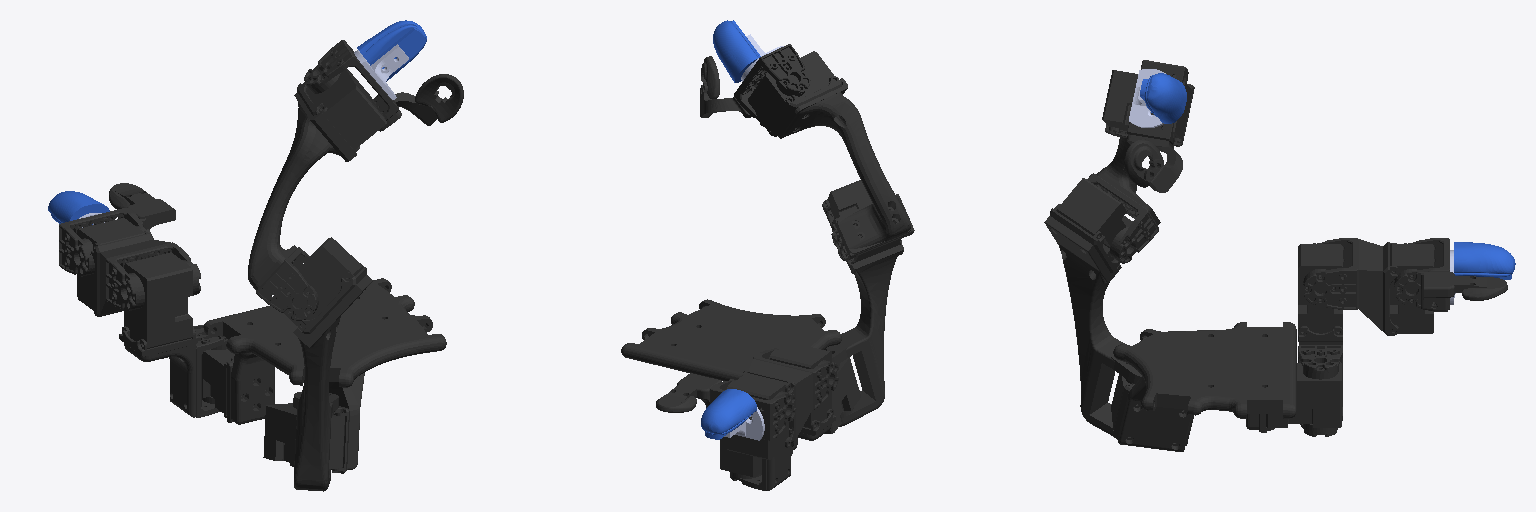
URDF robot description (ditto_left_leader_spikeatac):
<?xml version='1.0' encoding='utf-8'?>
<robot name="ditto_left_leader_spikeatac">
  <link name="base_link">
    <inertial>
      <origin xyz="0.0152144378077 -0.0458257694108 0.0115452538109" rpy="0 -0 0" />
      <mass value="0.0833211952650805" />
      <inertia ixx="3.31172694214e-05" ixy="-7.28985620728e-07" ixz="-4.10611672089e-06" iyy="3.13694915846e-05" iyz="-3.04082055921e-06" izz="4.76920282566e-05" />
    </inertial>
    <visual>
      <origin xyz="0 0 0" rpy="0 -0 0" />
      <geometry>
        <mesh filename="meshes/base_link.STL" />
      </geometry>
      <material name="">
        <color rgba="0.250980392156863 0.250980392156863 0.250980392156863 1" />
      </material>
    </visual>
    <collision>
      <origin xyz="0 0 0" rpy="0 -0 0" />
      <geometry>
        <mesh filename="meshes/base_link.STL" />
      </geometry>
    </collision>
  </link>
  <link name="retarget_base">
    <inertial>
      <origin xyz="0 0 0" rpy="0 -0 0" />
      <mass value="1.0E-06" />
      <inertia ixx="1e-12" ixy="0" ixz="0" iyy="1e-12" iyz="0" izz="1e-12" />
    </inertial>
  </link>
  <joint name="retarget_base_joint" type="fixed">
    <origin xyz="0 0 0.046" rpy="0 -0 0" />
    <parent link="base_link" />
    <child link="retarget_base" />
  </joint>
  <link name="index_link_0">
    <inertial>
      <origin xyz="-0.0271735386977 3.02693906263e-09 0.029005723879" rpy="0 -0 0" />
      <mass value="0.0234290807402588" />
      <inertia ixx="3.11468553842e-06" ixy="1.63639517847e-13" ixz="2.15068798817e-07" iyy="3.56962661403e-06" iyz="-2.93292358216e-13" izz="1.91839577956e-06" />
    </inertial>
    <visual>
      <origin xyz="0 0 0" rpy="0 -0 0" />
      <geometry>
        <mesh filename="meshes/index_link_0.STL" />
      </geometry>
      <material name="">
        <color rgba="0.250980392156863 0.250980392156863 0.250980392156863 1" />
      </material>
    </visual>
    <collision>
      <origin xyz="0 0 0" rpy="0 -0 0" />
      <geometry>
        <mesh filename="meshes/index_link_0.STL" />
      </geometry>
    </collision>
  </link>
  <joint name="index_joint_0" type="revolute">
    <origin xyz="0 0 0" rpy="0 -0 0" />
    <parent link="base_link" />
    <child link="index_link_0" />
    <axis xyz="0 0 -1" />
    <limit lower="-0.3" upper="0.8" effort="0" velocity="0" />
  </joint>
  <link name="index_link_1">
    <inertial>
      <origin xyz="-0.0324867258156 -0.00549943022495 0.000209333565141" rpy="0 -0 0" />
      <mass value="0.0277581841607585" />
      <inertia ixx="4.11454234313e-06" ixy="-4.9684016149e-08" ixz="-1.58829402885e-13" iyy="2.57034877333e-06" iyz="-4.28535395324e-08" izz="2.91638603075e-06" />
    </inertial>
    <visual>
      <origin xyz="0 0 0" rpy="0 -0 0" />
      <geometry>
        <mesh filename="meshes/index_link_1.STL" />
      </geometry>
      <material name="">
        <color rgba="0.250980392156863 0.250980392156863 0.250980392156863 1" />
      </material>
    </visual>
    <collision>
      <origin xyz="0 0 0" rpy="0 -0 0" />
      <geometry>
        <mesh filename="meshes/index_link_1.STL" />
      </geometry>
    </collision>
  </link>
  <joint name="index_joint_1" type="revolute">
    <origin xyz="-0.03 0 0.046" rpy="1.5708 -0 -1.5708" />
    <parent link="index_link_0" />
    <child link="index_link_1" />
    <axis xyz="0 0 -1" />
    <limit lower="-0.17" upper="1.57" effort="0" velocity="0" />
  </joint>
  <link name="index_link_2">
    <inertial>
      <origin xyz="-0.0100768333002 1.61102681582e-13 -1.20279993576e-12" rpy="0 -0 0" />
      <mass value="0.00252674876938613" />
      <inertia ixx="5.3757016895e-07" ixy="-2.36900899402e-18" ixz="2.6858138864e-17" iyy="5.77184540926e-07" iyz="2.72603135902e-18" izz="2.13320625555e-07" />
    </inertial>
    <visual>
      <origin xyz="0 0 0" rpy="0 -0 0" />
      <geometry>
        <mesh filename="meshes/index_link_2.STL" />
      </geometry>
      <material name="">
        <color rgba="0.250980392156863 0.250980392156863 0.250980392156863 1" />
      </material>
    </visual>
    <collision>
      <origin xyz="0 0 0" rpy="0 -0 0" />
      <geometry>
        <mesh filename="meshes/index_link_2.STL" />
      </geometry>
    </collision>
  </link>
  <joint name="index_joint_2" type="revolute">
    <origin xyz="-0.041 0 0" rpy="0 -0 0" />
    <parent link="index_link_1" />
    <child link="index_link_2" />
    <axis xyz="0 0 -1" />
    <limit lower="-0.1" upper="1.57" effort="0" velocity="0" />
  </joint>
  <link name="index_fingerpad">
    <inertial>
      <origin xyz="0.0143776185084 -0.00237508977996 -0.00159388555077" rpy="0 -0 0" />
      <mass value="0.00293503370588173" />
      <inertia ixx="1.33921399649e-07" ixy="4.95796337669e-08" ixz="3.54546635158e-08" iyy="3.38296975785e-07" iyz="-3.08234193737e-08" izz="3.77300589088e-07" />
    </inertial>
    <visual>
      <origin xyz="0 0 0" rpy="0 -0 0" />
      <geometry>
        <mesh filename="meshes/index_fingerpad.STL" />
      </geometry>
      <material name="">
        <color rgba="0.250980392156863 0.250980392156863 0.250980392156863 1" />
      </material>
    </visual>
    <collision>
      <origin xyz="0 0 0" rpy="0 -0 0" />
      <geometry>
        <mesh filename="meshes/index_fingerpad.STL" />
      </geometry>
    </collision>
  </link>
  <joint name="index_fingerpad_joint" type="fixed">
    <origin xyz="-0.0322 0.007 -0.0278" rpy="-1.5708 -0 0" />
    <parent link="index_link_2" />
    <child link="index_fingerpad" />
    <axis xyz="0 0 0" />
  </joint>
  <link name="thumb_link_0">
    <inertial>
      <origin xyz="-0.0277211406322 0.0198752406276 0.0507922215459" rpy="0 -0 0.00591210613737" />
      <mass value="0.0360287569844992" />
      <inertia ixx="1.75304183231e-05" ixy="1.30640778835e-06" ixz="5.54910026755e-06" iyy="1.91614838037e-05" iyz="-1.72454180724e-06" izz="6.16754295627e-06" />
    </inertial>
    <visual>
      <origin xyz="0 0 0" rpy="0 -0 0.00591210613737" />
      <geometry>
        <mesh filename="meshes/thumb_link_0.STL" />
      </geometry>
      <material name="">
        <color rgba="0.250980392156863 0.250980392156863 0.250980392156863 1" />
      </material>
    </visual>
    <collision>
      <origin xyz="0 0 0" rpy="0 -0 0.00591210613737" />
      <geometry>
        <mesh filename="meshes/thumb_link_0.STL" />
      </geometry>
    </collision>
  </link>
  <joint name="thumb_joint_0" type="revolute">
    <origin xyz="0.000810392045195 -0.0819873039473 -0.0022549227037" rpy="0.184740224351 0.181665966851 1.66373584591" />
    <parent link="base_link" />
    <child link="thumb_link_0" />
    <axis xyz="0 0 -1" />
    <limit lower="-0.57" upper="0.8" effort="0" velocity="0" />
  </joint>
  <link name="thumb_link_1">
    <inertial>
      <origin xyz="-0.0385363120735 0.0494333786231 -0.0159564863523" rpy="0 -0 0" />
      <mass value="0.0330039503672684" />
      <inertia ixx="9.6108443247e-06" ixy="2.24944262518e-06" ixz="-8.7592913934e-07" iyy="5.29228181648e-06" iyz="1.17840287646e-06" izz="8.98233743505e-06" />
    </inertial>
    <visual>
      <origin xyz="0 0 0" rpy="0 -0 0" />
      <geometry>
        <mesh filename="meshes/thumb_link_1.STL" />
      </geometry>
      <material name="">
        <color rgba="0.250980392156863 0.250980392156863 0.250980392156863 1" />
      </material>
    </visual>
    <collision>
      <origin xyz="0 0 0" rpy="0 -0 0" />
      <geometry>
        <mesh filename="meshes/thumb_link_1.STL" />
      </geometry>
    </collision>
  </link>
  <joint name="thumb_joint_1" type="revolute">
    <origin xyz="-0.033941125497 0.033941125497 0.0705336219106" rpy="1.57079632679 0.687165789356 -2.35619449019" />
    <parent link="thumb_link_0" />
    <child link="thumb_link_1" />
    <axis xyz="0 0 -1" />
    <limit lower="-1.57" upper="0.3" effort="0" velocity="0" />
  </joint>
  <link name="thumb_link_3">
    <inertial>
      <origin xyz="-0.0100768331764 -5.41480197665e-11 -0.00799999996807" rpy="0 -0 -0.00428657420023" />
      <mass value="0.00252674889438427" />
      <inertia ixx="5.37570898003e-07" ixy="-1.69807278639e-10" ixz="-3.80974738505e-16" iyy="5.77183813886e-07" iyz="-4.02356796511e-17" izz="2.13320626363e-07" />
    </inertial>
    <visual>
      <origin xyz="0 0 0" rpy="0 -0 -0.00428657420023" />
      <geometry>
        <mesh filename="meshes/thumb_link_3.STL" />
      </geometry>
      <material name="">
        <color rgba="0.250980392156863 0.250980392156863 0.250980392156863 1" />
      </material>
    </visual>
    <collision>
      <origin xyz="0 0 0" rpy="0 -0 -0.00428657420023" />
      <geometry>
        <mesh filename="meshes/thumb_link_3.STL" />
      </geometry>
    </collision>
  </link>
  <joint name="thumb_joint_3" type="revolute">
    <origin xyz="-0.0544657487321 0.0718418132538 -0.026569488682" rpy="1.14448873096 -0.19494617924 -1.71050085924" />
    <parent link="thumb_link_1" />
    <child link="thumb_link_3" />
    <axis xyz="0 0 -1" />
    <limit lower="-1.57" upper="0.1" effort="0" velocity="0" />
  </joint>
  <link name="thumb_fingerpad">
    <inertial>
      <origin xyz="0.00872390099835 0.00591950501233 -0.00537464637346" rpy="0 -0 0" />
      <mass value="0.00273977118217093" />
      <inertia ixx="2.91978087929e-07" ixy="-9.70777337553e-09" ixz="-8.60983354631e-09" iyy="2.36304105033e-07" iyz="8.34404661521e-08" izz="1.70851418163e-07" />
    </inertial>
    <visual>
      <origin xyz="0 0 0" rpy="0 -0 0" />
      <geometry>
        <mesh filename="meshes/thumb_fingerpad.STL" />
      </geometry>
      <material name="">
        <color rgba="0.250980392156863 0.250980392156863 0.250980392156863 1" />
      </material>
    </visual>
    <collision>
      <origin xyz="0 0 0" rpy="0 -0 0" />
      <geometry>
        <mesh filename="meshes/thumb_fingerpad.STL" />
      </geometry>
    </collision>
  </link>
  <joint name="thumb_fingerpad_joint" type="fixed">
    <origin xyz="-0.034 -0.005 -0.0398" rpy="1.80666825946 0.379498136324 -0.503100653479" />
    <parent link="thumb_link_3" />
    <child link="thumb_fingerpad" />
    <axis xyz="0 0 0" />
    <limit lower="0" upper="0" effort="0" velocity="0" />
  </joint>
  <link name="index_tip_adapter">
    <inertial>
      <origin xyz="-0.0135000096961 0.00633783628784 0.0119839185096" rpy="0 -0 0" />
      <mass value="0.00157733" />
      <inertia ixx="6.45116e-08" ixy="-8.05797e-15" ixz="6.17392e-14" iyy="9.20022e-08" iyz="-4.20098e-09" izz="8.83338e-08" />
    </inertial>
    <visual>
      <origin xyz="0 0 0" rpy="0 -0 0" />
      <geometry>
        <mesh filename="meshes/tip_adapter.STL" />
      </geometry>
      <material name="">
        <color rgba="0.79 0.82 0.93 1" />
      </material>
    </visual>
    <collision>
      <origin xyz="0 0 0" rpy="0 -0 0" />
      <geometry>
        <mesh filename="meshes/tip_adapter.STL" />
      </geometry>
    </collision>
  </link>
  <joint name="index_tip_adapter_joint" type="fixed">
    <origin xyz="-0.014 0.01028 0.0135" rpy="1.57079632679 -1.57079632679 0" />
    <parent link="index_link_2" />
    <child link="index_tip_adapter" />
  </joint>
  <link name="index_spikeatac">
    <inertial>
      <origin xyz="-0.0104337598167 0.0120114996042 0.00739747842227" rpy="0 -0 0" />
      <mass value="0.00695543" />
      <inertia ixx="4.62545e-07" ixy="-1.02977e-12" ixz="-1.12926e-14" iyy="2.53669e-07" iyz="3.17254e-08" izz="5.1118e-07" />
    </inertial>
    <visual>
      <origin xyz="0 0 0" rpy="0 -0 0" />
      <geometry>
        <mesh filename="meshes/spikeatac.STL" />
      </geometry>
      <material name="">
        <color rgba="0.25 0.45 0.85 1" />
      </material>
    </visual>
    <collision>
      <origin xyz="0 0 0" rpy="0 -0 0" />
      <geometry>
        <mesh filename="meshes/spikeatac.STL" />
      </geometry>
    </collision>
  </link>
  <joint name="index_spikeatac_joint" type="fixed">
    <origin xyz="-0.02393 0.0048 0.01155" rpy="-3.14159265359 -1.22464679915e-16 3.14159265359" />
    <parent link="index_tip_adapter" />
    <child link="index_spikeatac" />
  </joint>
  <link name="thumb_tip_adapter">
    <inertial>
      <origin xyz="-0.0135000096961 0.00633783628784 0.0119839185096" rpy="0 -0 0" />
      <mass value="0.00157733" />
      <inertia ixx="6.45116e-08" ixy="-8.05797e-15" ixz="6.17392e-14" iyy="9.20022e-08" iyz="-4.20098e-09" izz="8.83338e-08" />
    </inertial>
    <visual>
      <origin xyz="0 0 0" rpy="0 -0 0" />
      <geometry>
        <mesh filename="meshes/tip_adapter.STL" />
      </geometry>
      <material name="">
        <color rgba="0.79 0.82 0.93 1" />
      </material>
    </visual>
    <collision>
      <origin xyz="0 0 0" rpy="0 -0 0" />
      <geometry>
        <mesh filename="meshes/tip_adapter.STL" />
      </geometry>
    </collision>
  </link>
  <joint name="thumb_tip_adapter_joint" type="fixed">
    <origin xyz="-0.01404 -0.01035 -0.0215" rpy="-1.57079632679 1.57079632679 0" />
    <parent link="thumb_link_3" />
    <child link="thumb_tip_adapter" />
  </joint>
  <link name="thumb_spikeatac">
    <inertial>
      <origin xyz="-0.0104337598167 0.0120114996042 0.00739747842227" rpy="0 -0 0" />
      <mass value="0.00695543" />
      <inertia ixx="4.62545e-07" ixy="-1.02977e-12" ixz="-1.12926e-14" iyy="2.53669e-07" iyz="3.17254e-08" izz="5.1118e-07" />
    </inertial>
    <visual>
      <origin xyz="0 0 0" rpy="0 -0 0" />
      <geometry>
        <mesh filename="meshes/spikeatac.STL" />
      </geometry>
      <material name="">
        <color rgba="0.25 0.45 0.85 1" />
      </material>
    </visual>
    <collision>
      <origin xyz="0 0 0" rpy="0 -0 0" />
      <geometry>
        <mesh filename="meshes/spikeatac.STL" />
      </geometry>
    </collision>
  </link>
  <joint name="thumb_spikeatac_joint" type="fixed">
    <origin xyz="-0.02393 0.0048 0.01155" rpy="-3.14159265359 -1.22464679915e-16 3.14159265359" />
    <parent link="thumb_tip_adapter" />
    <child link="thumb_spikeatac" />
  </joint>
</robot>

--- Render facts (derived) ---
Views: 3 orthographic renders of the robot side by side, from view 1: azimuth 30°, elevation 25°; view 2: azimuth 150°, elevation 25°; view 3: azimuth 270°, elevation 25°.
Robot: ditto_left_leader_spikeatac — 14 links, 13 joints (6 revolute, 7 fixed); root link base_link; default pose: all joints at 0.
Links seen in each view (by area): view 1: base_link, thumb_link_1, thumb_link_0, index_link_0, index_link_1, thumb_fingerpad, index_link_2, thumb_link_3, thumb_spikeatac, index_fingerpad, index_spikeatac, thumb_tip_adapter; view 2: base_link, thumb_link_1, thumb_link_0, index_link_1, index_link_0, thumb_link_3, index_spikeatac, thumb_spikeatac, index_link_2, index_fingerpad, thumb_fingerpad, index_tip_adapter; view 3: base_link, thumb_link_0, index_link_1, thumb_link_1, index_link_0, thumb_fingerpad, index_fingerpad, index_spikeatac, thumb_spikeatac, index_link_2, thumb_link_3, thumb_tip_adapter.
Boxes of the visible links, bbox=[...] form: base_link: bbox=[202, 278, 446, 474]; thumb_link_1: bbox=[248, 69, 386, 320]; thumb_link_0: bbox=[273, 237, 372, 491]; index_link_0: bbox=[119, 252, 227, 417]; index_link_1: bbox=[77, 218, 200, 316]; thumb_fingerpad: bbox=[379, 74, 463, 131]; index_link_2: bbox=[59, 208, 150, 276]; thumb_link_3: bbox=[304, 40, 398, 120]; thumb_spikeatac: bbox=[357, 20, 426, 81]; index_fingerpad: bbox=[109, 183, 175, 229]; index_spikeatac: bbox=[48, 191, 109, 224]; thumb_tip_adapter: bbox=[354, 44, 408, 99]; base_link: bbox=[621, 299, 860, 478]; thumb_link_1: bbox=[748, 51, 914, 260]; thumb_link_0: bbox=[822, 180, 904, 426]; index_link_1: bbox=[726, 348, 838, 459]; index_link_0: bbox=[730, 342, 835, 490]; thumb_link_3: bbox=[734, 44, 810, 127]; index_spikeatac: bbox=[701, 389, 756, 439]; thumb_spikeatac: bbox=[713, 20, 760, 82]; index_link_2: bbox=[710, 379, 796, 440]; index_fingerpad: bbox=[656, 373, 721, 412]; thumb_fingerpad: bbox=[700, 56, 751, 117]; index_tip_adapter: bbox=[724, 407, 764, 440]; base_link: bbox=[1111, 322, 1341, 451]; thumb_link_0: bbox=[1044, 178, 1141, 435]; index_link_1: bbox=[1303, 238, 1433, 335]; thumb_link_1: bbox=[1087, 70, 1194, 263]; index_link_0: bbox=[1298, 244, 1342, 436]; thumb_fingerpad: bbox=[1124, 134, 1182, 192]; index_fingerpad: bbox=[1421, 271, 1507, 311]; index_spikeatac: bbox=[1454, 242, 1515, 279]; thumb_spikeatac: bbox=[1140, 73, 1186, 123]; index_link_2: bbox=[1394, 238, 1449, 309]; thumb_link_3: bbox=[1127, 60, 1188, 145]; thumb_tip_adapter: bbox=[1129, 69, 1165, 127].
Size in the robot's own frame: 0.1248 by 0.2113 by 0.2058 metres.
13 mesh visuals loaded from 11 distinct referenced files (11 binary STL).
